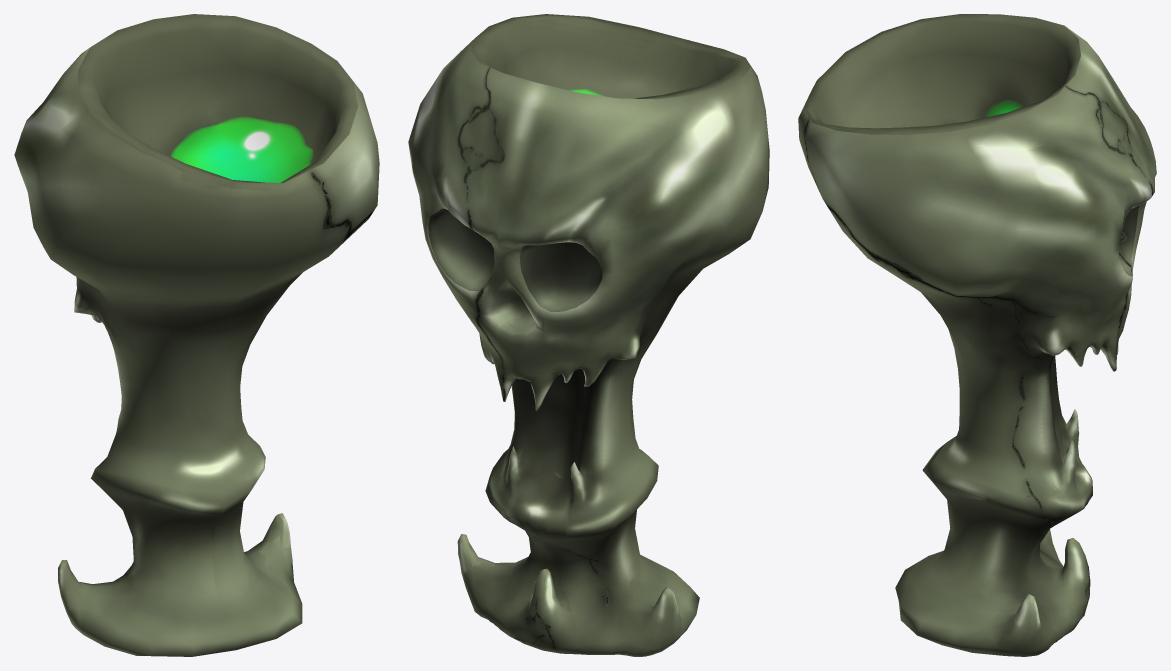
The model's file is grail.obj.
The picture shows the model from 3 angles, left to right: view 1: azimuth 30°, elevation 25°; view 2: azimuth 150°, elevation 25°; view 3: azimuth 270°, elevation 25°; orthographic projection.
Visible parts, largest first — view 1: Plane; view 2: Plane; view 3: Plane.
Part boxes in pixels (x1=…): Plane: x1=14, y1=14, x2=379, y2=656; Plane: x1=408, y1=14, x2=769, y2=656; Plane: x1=798, y1=14, x2=1156, y2=656.
Size of the model in its own units: 1.61 by 2.85 by 1.63.
